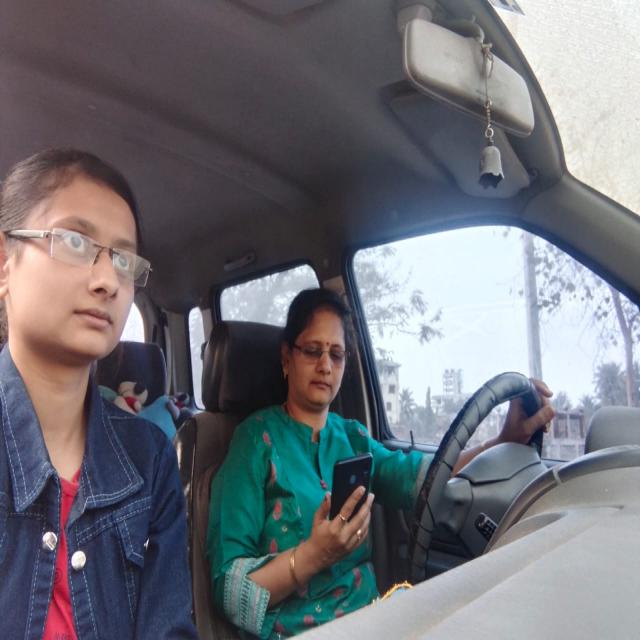mobile: (320, 460, 373, 563)
person: (0, 138, 156, 382), (272, 292, 360, 413)
